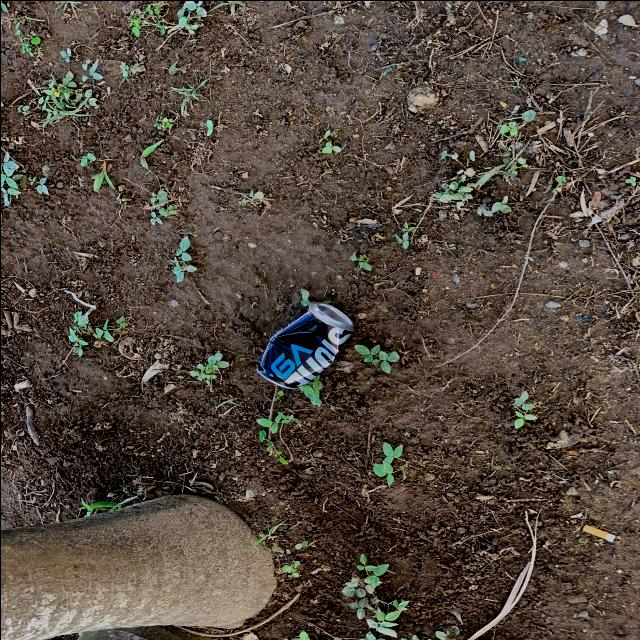Cigarette: (581, 524, 616, 542)
Drink can: (255, 301, 353, 388)
